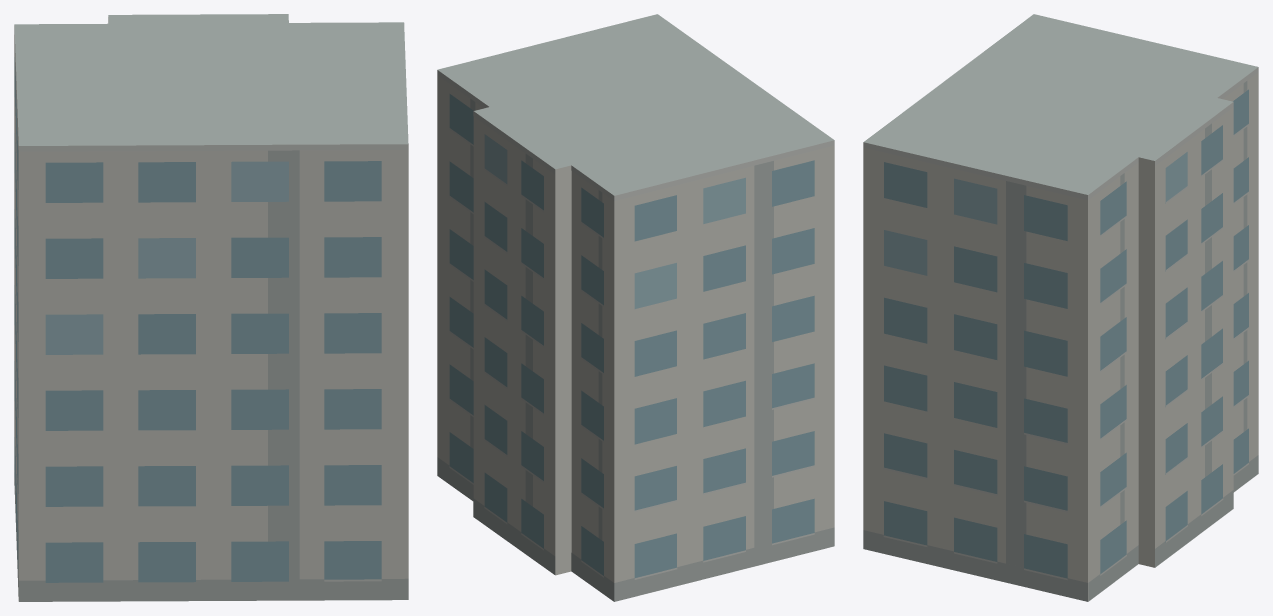
Rendered from survey-upis-32774772.glb.
The picture shows the model from 3 angles, left to right: view 1: azimuth 30°, elevation 25°; view 2: azimuth 150°, elevation 25°; view 3: azimuth 270°, elevation 25°; orthographic projection. The views are drawn at different scales.
Visible parts, largest first — view 1: survey-upis-32774772.tmp; view 2: survey-upis-32774772.tmp; view 3: survey-upis-32774772.tmp.
Boxes of the visible parts, x1=… form: survey-upis-32774772.tmp: x1=14, y1=14, x2=408, y2=601; survey-upis-32774772.tmp: x1=437, y1=14, x2=834, y2=601; survey-upis-32774772.tmp: x1=863, y1=14, x2=1258, y2=601.
Bounding box in the file's own units: 18.33 × 19.2 × 16.91.
